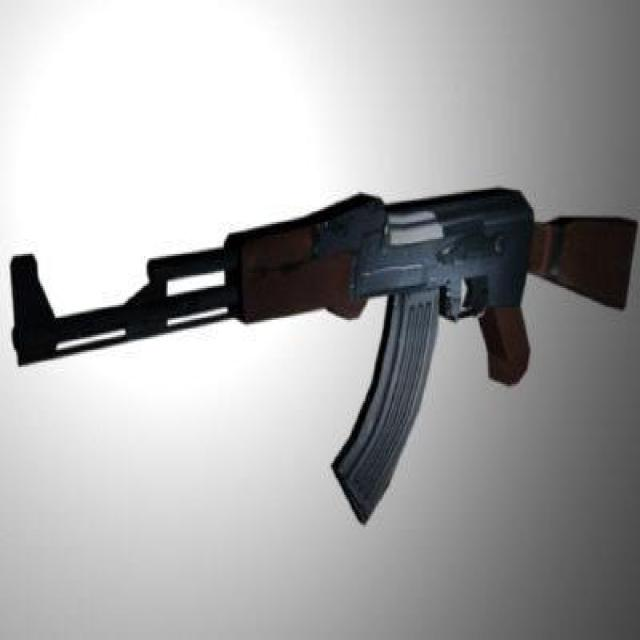Gun: (15, 212, 618, 513)
